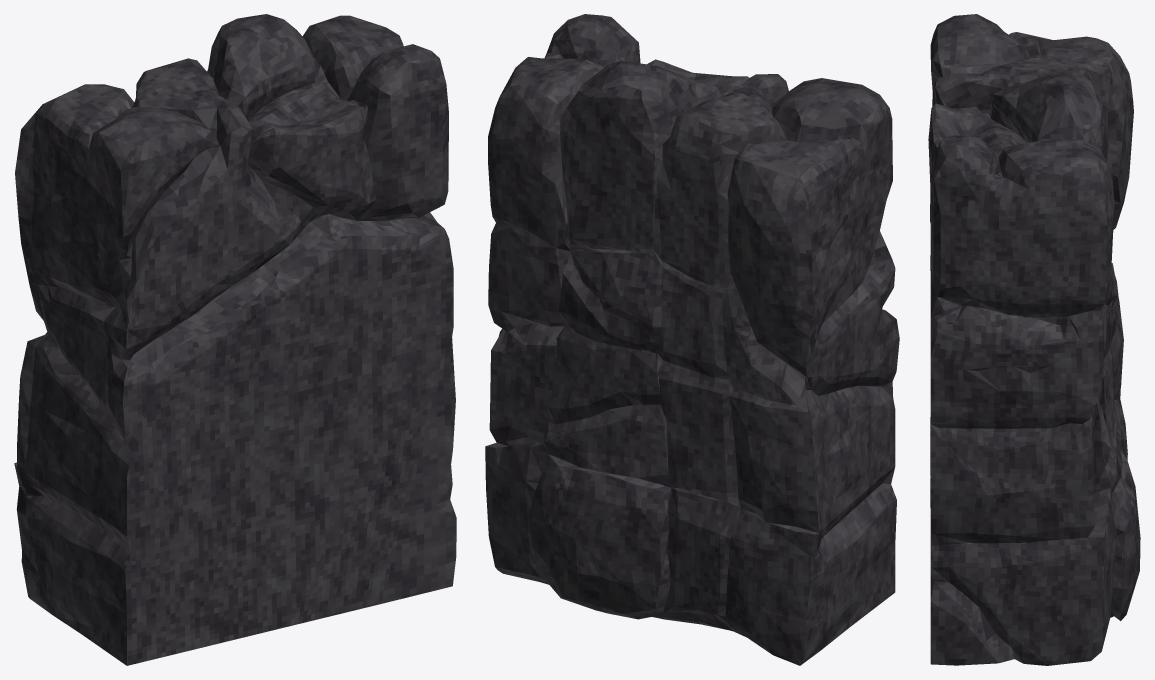
Rendered from stone-wall3.glb.
3 views of the same model, side by side, from view 1: azimuth 30°, elevation 25°; view 2: azimuth 150°, elevation 25°; view 3: azimuth 270°, elevation 25° (orthographic). The views are drawn at different scales.
Parts seen in each view (by area): view 1: Cube.001; view 2: Cube.001; view 3: Cube.001.
Part boxes in pixels (x1,y1,x2,y2): Cube.001: (14, 14, 456, 665); Cube.001: (485, 14, 899, 665); Cube.001: (928, 14, 1140, 665).
Size of the model in its own units: 4.35 by 6.47 by 2.34.
Materials: 1 (1 with a texture image).
